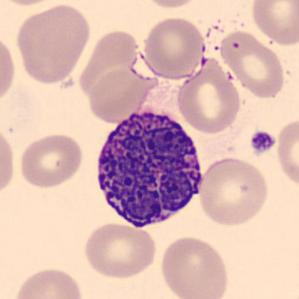Basophil: (90, 102, 209, 234)
Platelets: (248, 129, 278, 155), (201, 44, 207, 54)
RBC: (12, 1, 92, 85), (175, 55, 244, 135), (196, 155, 271, 228), (216, 28, 286, 100), (157, 233, 232, 299), (81, 220, 159, 281), (76, 27, 140, 100), (84, 65, 158, 125), (140, 15, 206, 79), (16, 131, 84, 189), (11, 264, 87, 299), (249, 0, 298, 47), (274, 115, 299, 190), (0, 30, 17, 107), (0, 124, 17, 197), (140, 0, 202, 10), (0, 0, 65, 7)
